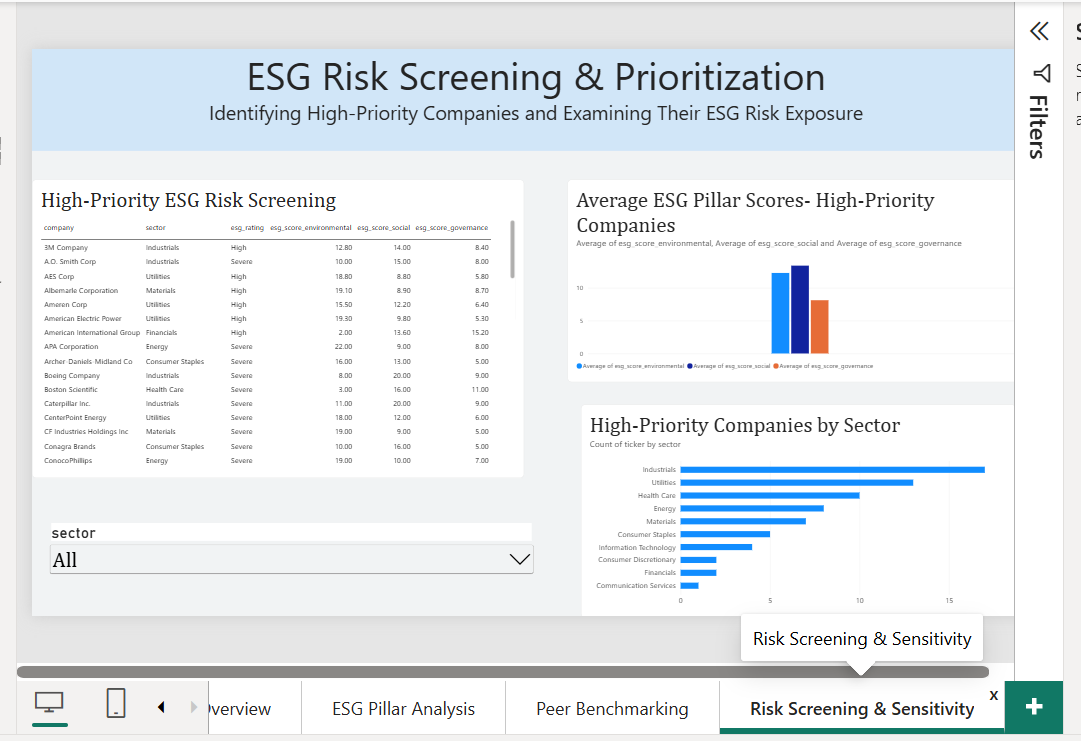

This screenshot's page, from the dashboard's own definition file:
{"tool":"powerbi","page":{"name":"Risk Screening & Sensitivity","canvas":[1920,1080],"ordinal":3},"visuals":[{"type":"tableEx","title":"High-Priority ESG Risk Screening","fields":{"Values":["esg_company_data.company","esg_company_data.sector","esg_company_data.esg_rating","esg_company_data.esg_score_environmental","esg_company_data.esg_score_social","esg_company_data.esg_score_governance"]},"box":[0,248.6,937.1,568.6],"z":0},{"type":"clusteredBarChart","title":"High-Priority Companies by Sector","fields":{"Category":["esg_company_data.sector"],"Y":["CountNonNull(esg_company_data.ticker)"]},"box":[1045.7,677.1,828.6,405.7],"z":1000},{"type":"clusteredColumnChart","title":"Average ESG Pillar Scores- High-Priority Companies","fields":{"Y":["Avg(esg_company_data.esg_score_environmental)","Avg(esg_company_data.esg_score_social)","Avg(esg_company_data.esg_score_governance)"]},"box":[1020,248.6,880,385.7],"z":2000},{"type":"slicer","fields":{"Values":["esg_company_data.sector"]},"box":[28.6,902.9,931.4,97.1],"z":3000},{"type":"textbox","box":[0,0,1920,194.3],"z":4000}]}

Visuals, with their boxes on the page's 1920x1080 design canvas (x1, y1, x2, y2). These are canvas units, not pixel positions in the 1081x741 screenshot, which may show the page scaled, cropped or inside an application window:
"High-Priority ESG Risk Screening" tableEx: [x1=0, y1=249, x2=937, y2=817]
"High-Priority Companies by Sector" clusteredBarChart: [x1=1046, y1=677, x2=1874, y2=1083]
"Average ESG Pillar Scores- High-Priority Companies" clusteredColumnChart: [x1=1020, y1=249, x2=1900, y2=634]
slicer - esg_company_data.sector: [x1=29, y1=903, x2=960, y2=1000]
textbox: [x1=0, y1=0, x2=1920, y2=194]
